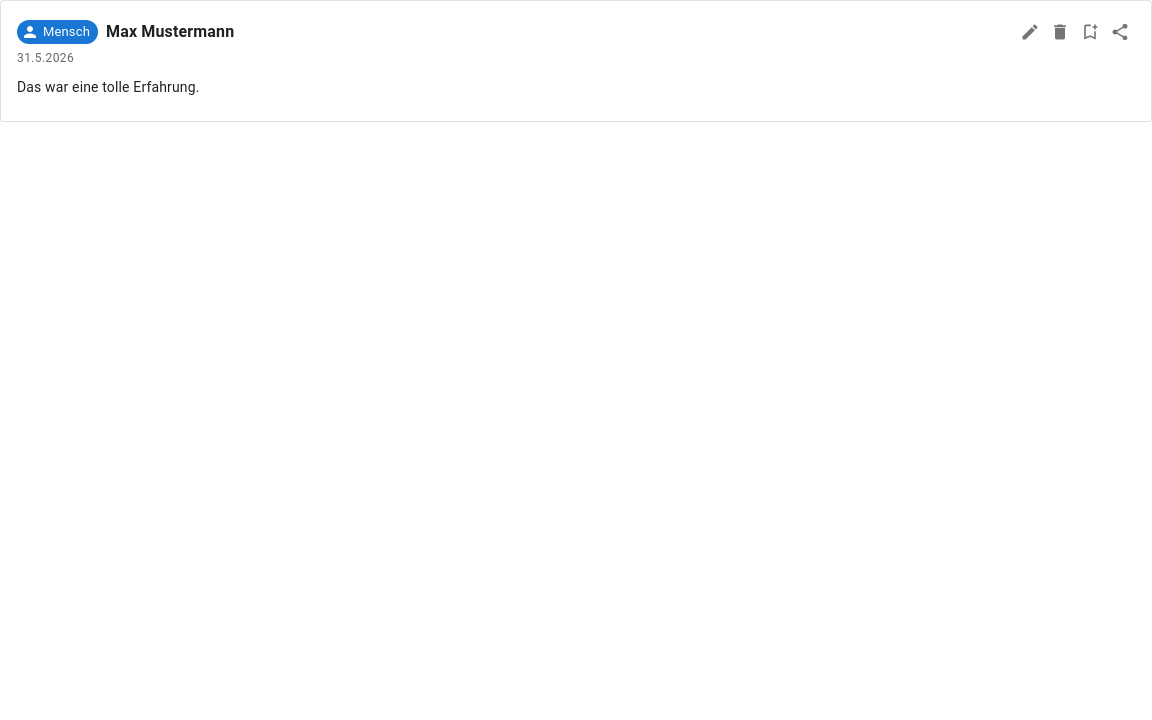
Test: TestimonialCard › shows share button and opens TestimonialShareDialog on click
This screenshot has width=1152, height=720.
Click the button named "öffentlichen link generieren" at (1120, 32), box top-left (1105, 17), bottom-right (1135, 47)
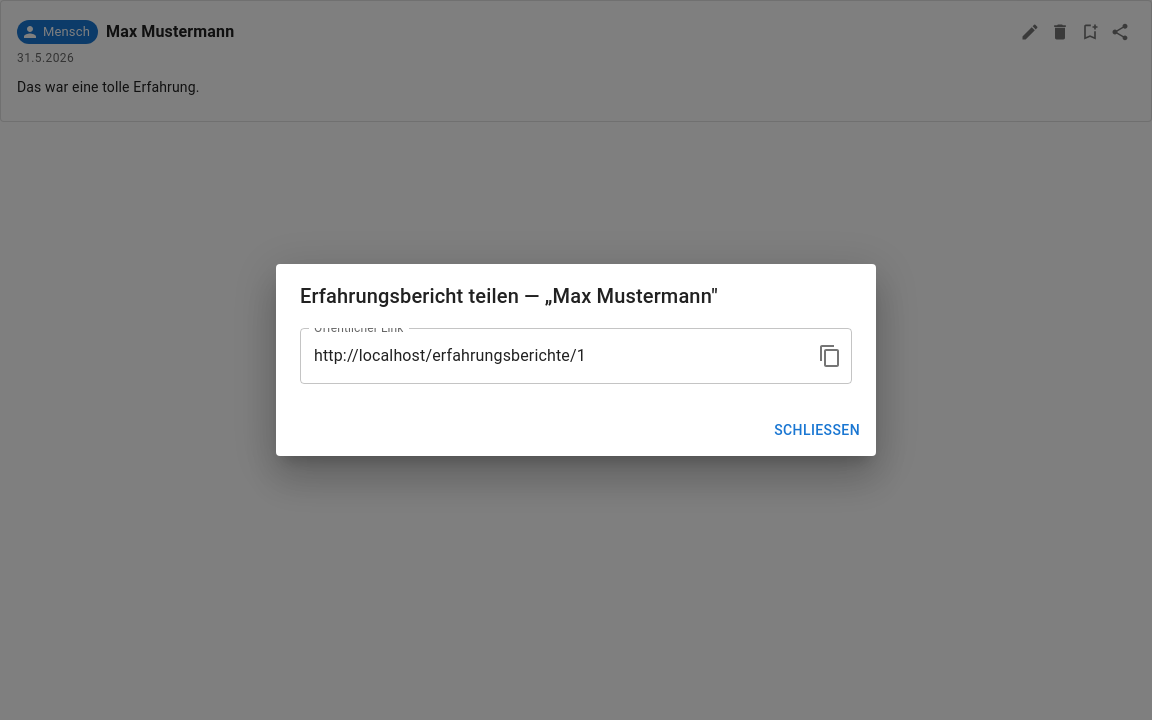
Check: the heading "Erfahrungsbericht teilen — „Max Mustermann\"" is shown, box top-left (300, 284), bottom-right (718, 308)
